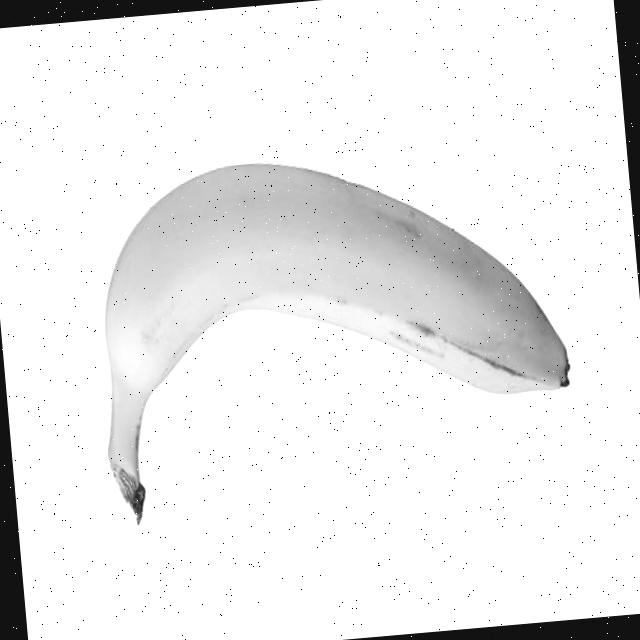Ripe: (87, 134, 578, 496)
